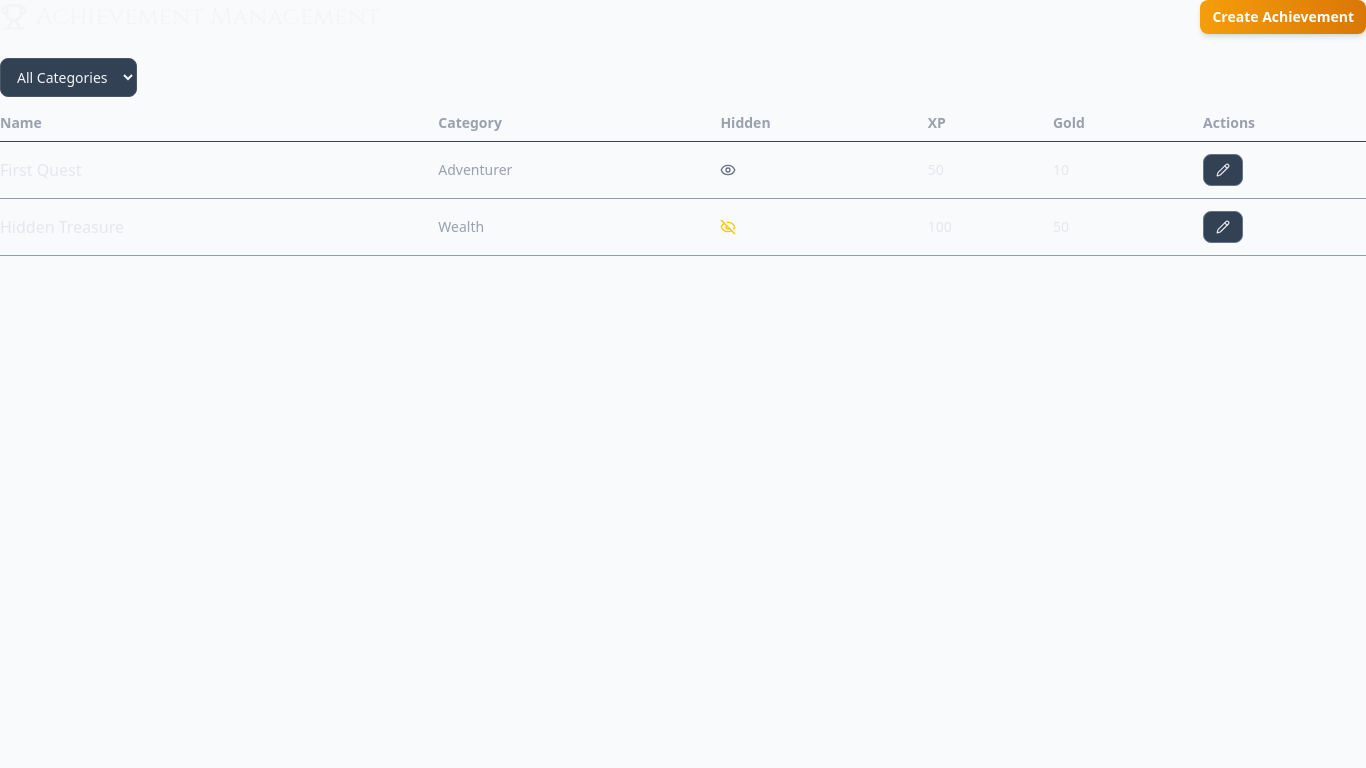
Test case: AchievementAdmin › opens create form when clicking create button
Expected: the text "First Quest" is shown, left=0, top=141, right=438, bottom=198
Step 1. Click the button with test id "create-achievement-button" → coordinates (1283, 17), box left=1200, top=0, right=1365, bottom=34
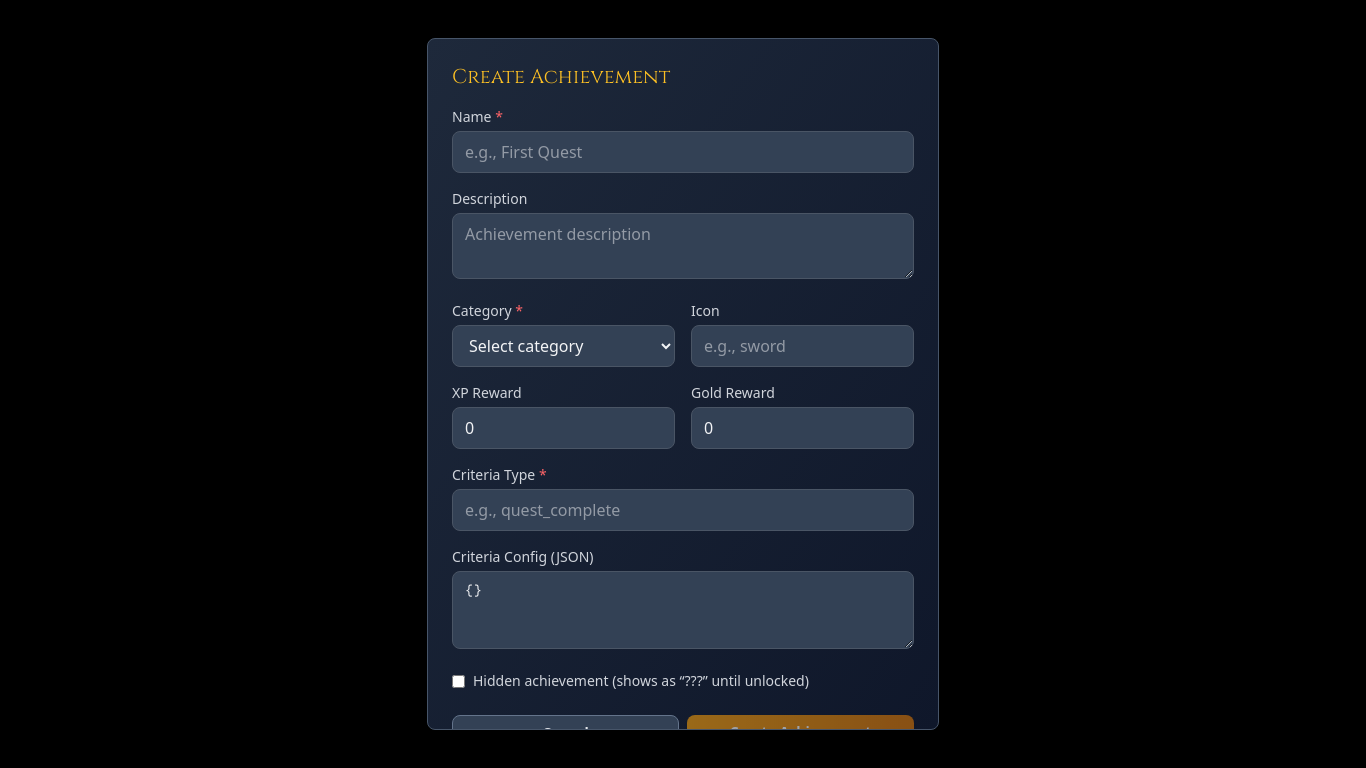
Expected: the element with test id "achievement-form" is shown, left=427, top=38, right=939, bottom=730
